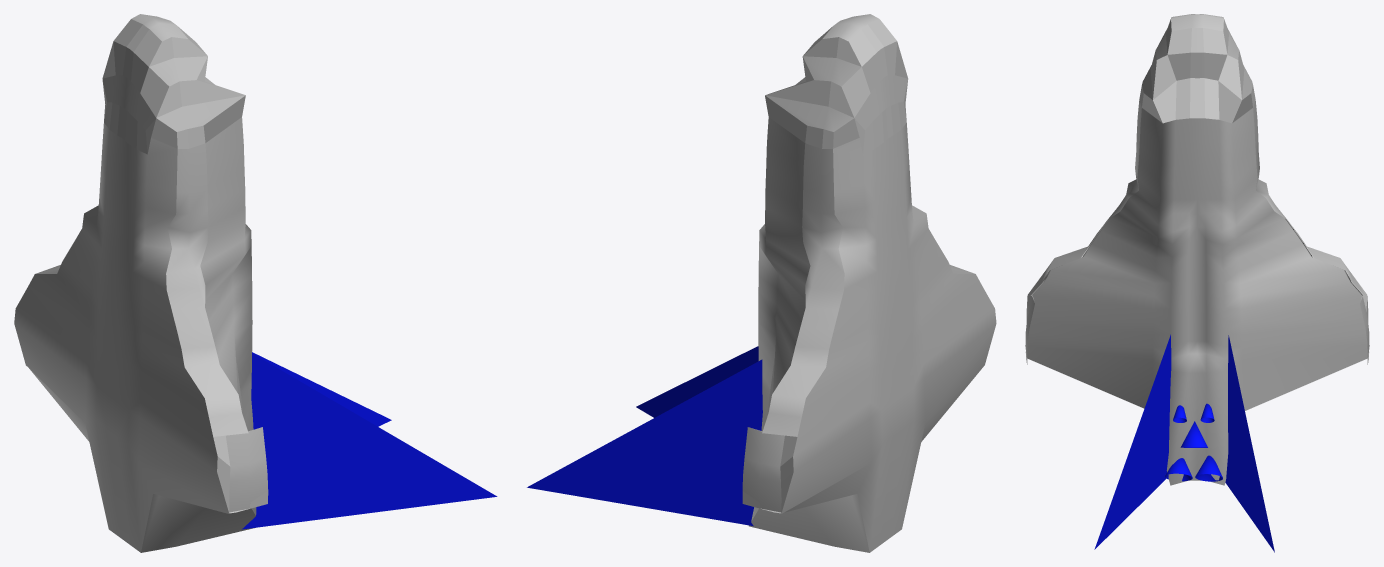
File: atlantis-orbiter.obj
3 renders of one model, left to right at view 1: azimuth 30°, elevation 25°; view 2: azimuth 150°, elevation 25°; view 3: azimuth 270°, elevation 25°, orthographic. The views are drawn at different scales.
Visible parts, largest first — view 1: pCube2, pCube3, pCube5; view 2: pCube2, pCube5, pCube3; view 3: pCube2, pCube3, pCube5, pCone3.
Boxes of the visible parts, x1,y1,x2,y2 form: pCube2: (14,14,268,552); pCube3: (242,353,497,529); pCube5: (252,352,391,426); pCube2: (742,14,996,552); pCube5: (527,359,762,526); pCube3: (636,346,758,417); pCube2: (1025,14,1369,485); pCube3: (1094,334,1171,549); pCube5: (1225,335,1274,552); pCone3: (1195,455,1222,481).
Size of the model in its own units: 22.52 by 34.04 by 24.46.
